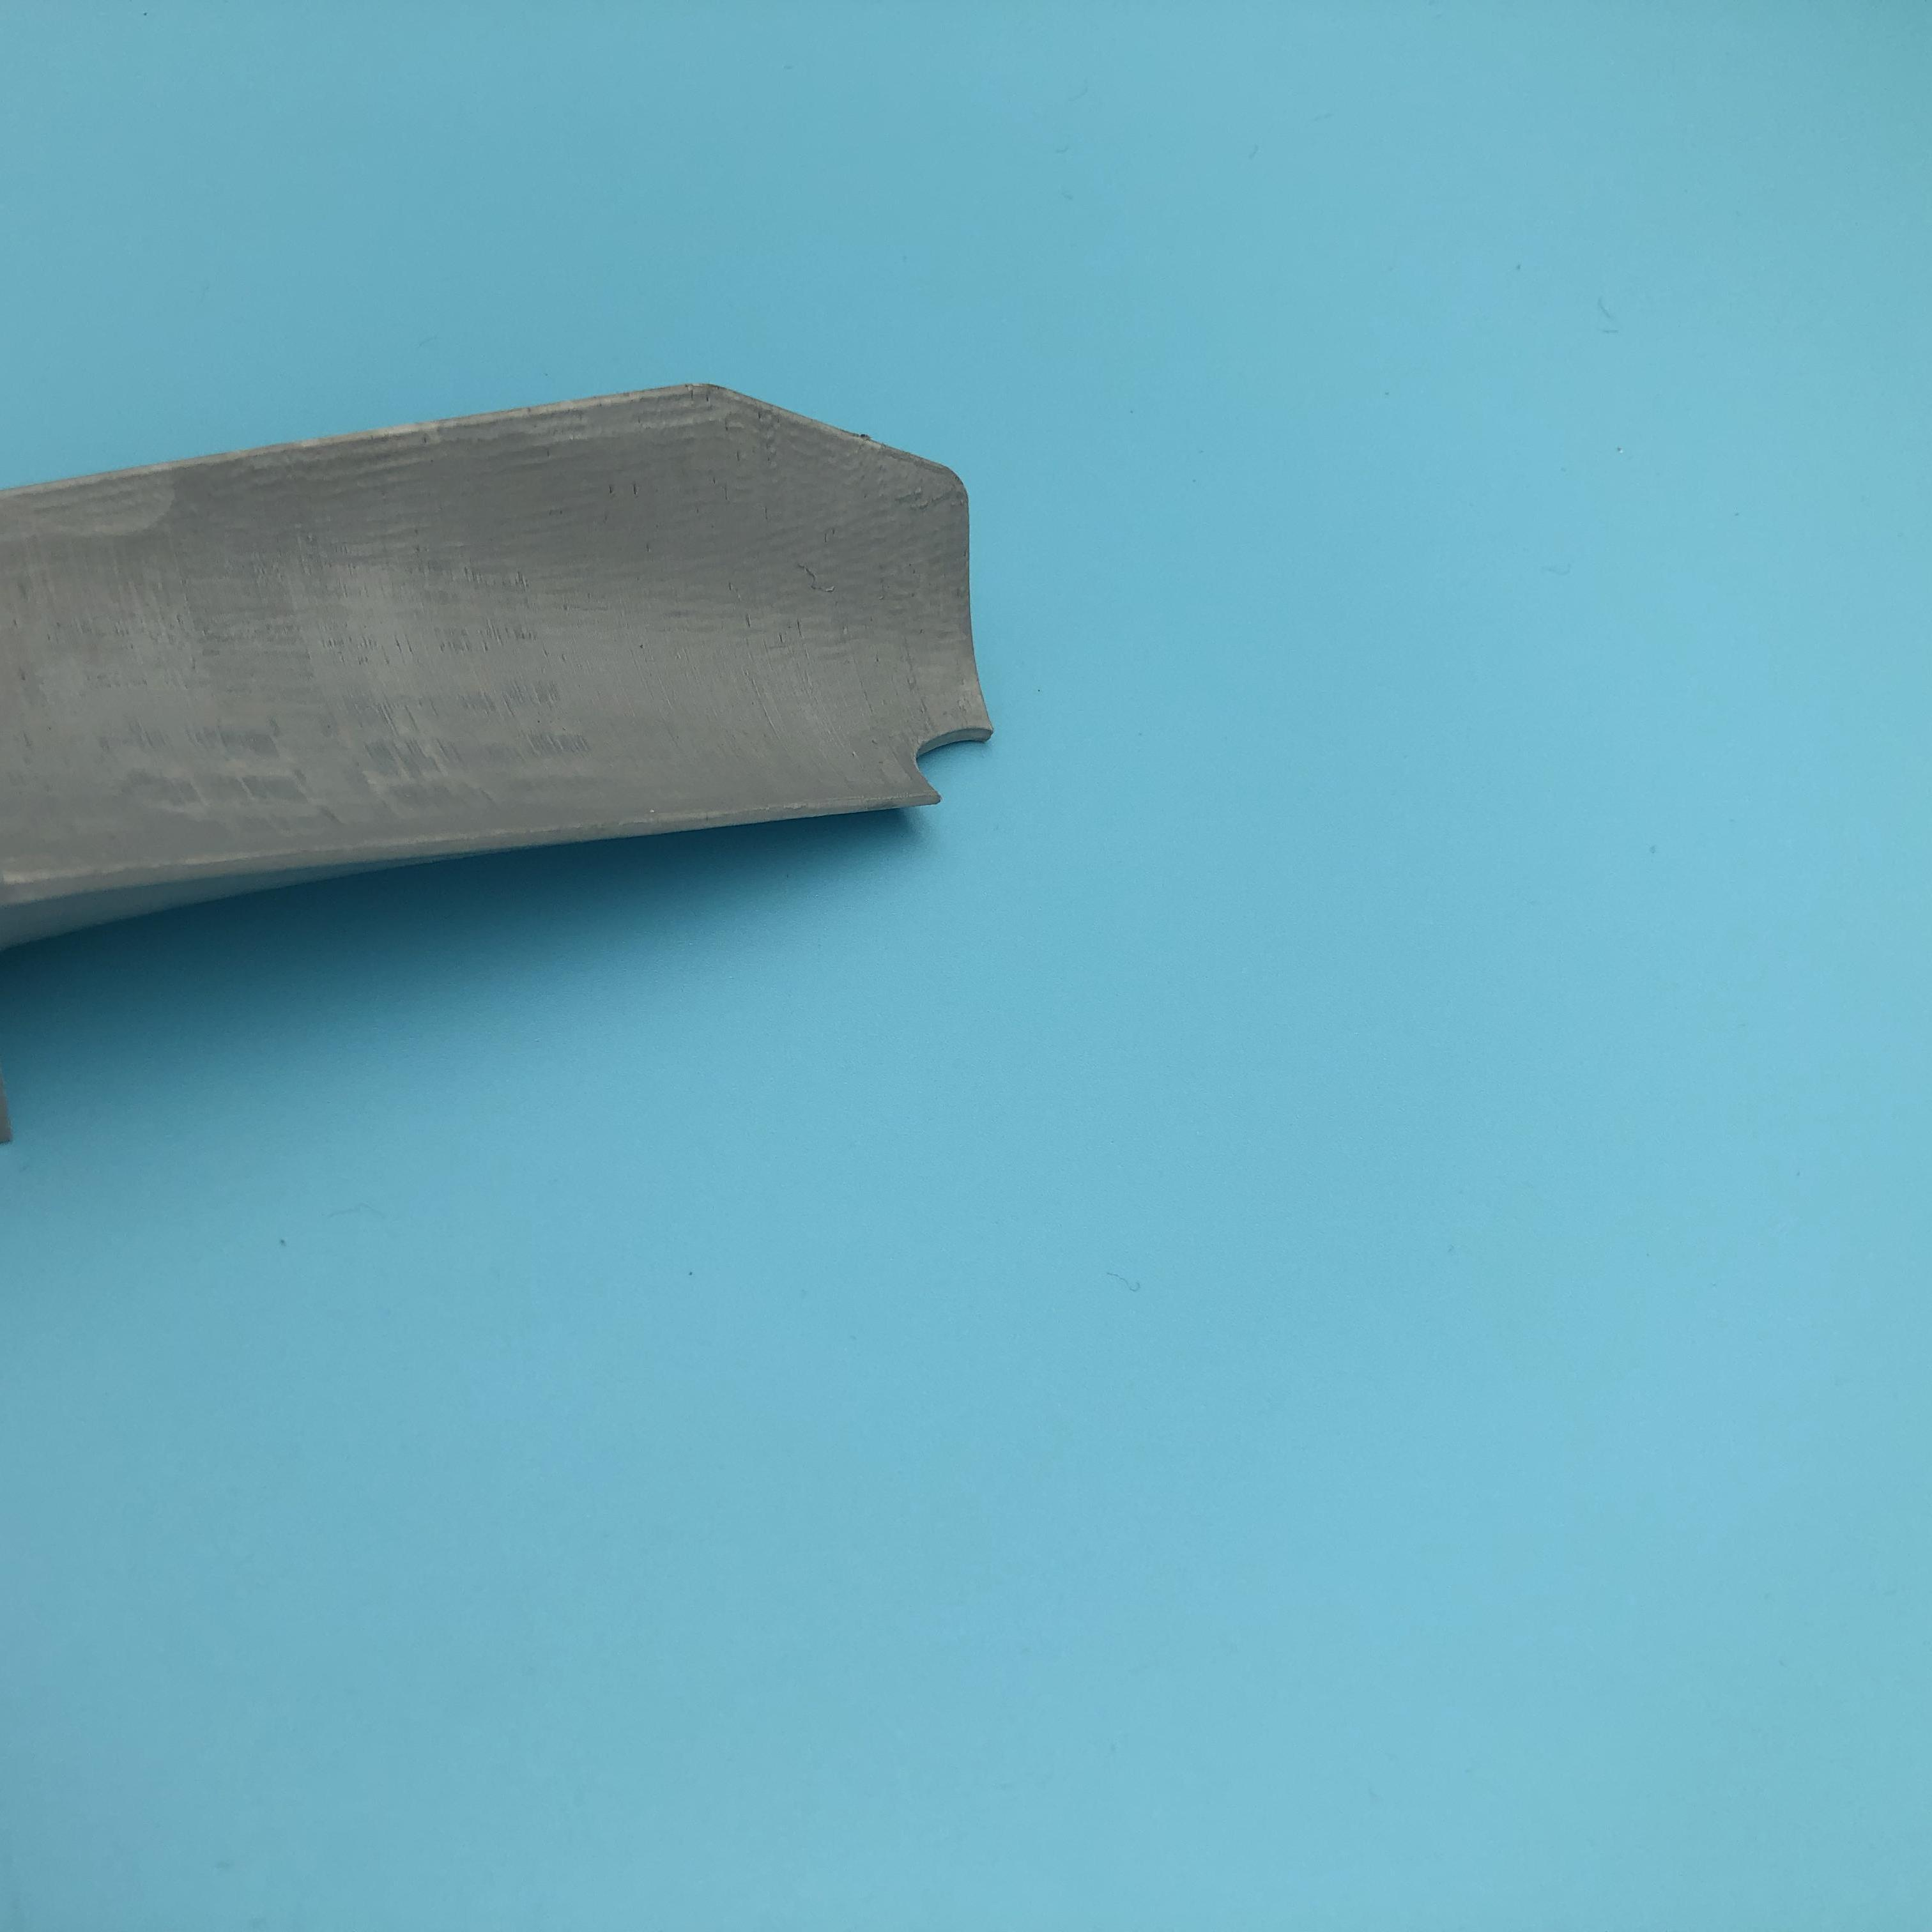fracture: (904, 717, 987, 809)
